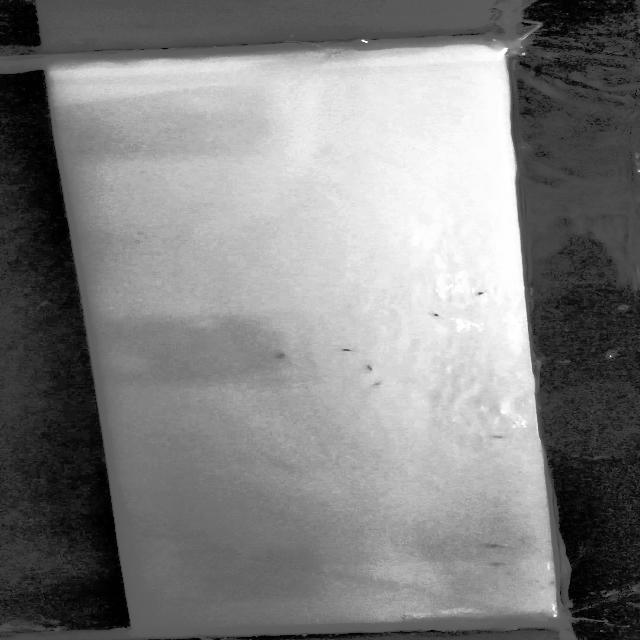shrimp: (262, 348, 298, 363), (332, 339, 363, 356), (356, 362, 384, 377), (476, 538, 505, 552), (361, 378, 394, 390), (424, 308, 449, 322), (470, 286, 492, 300)
